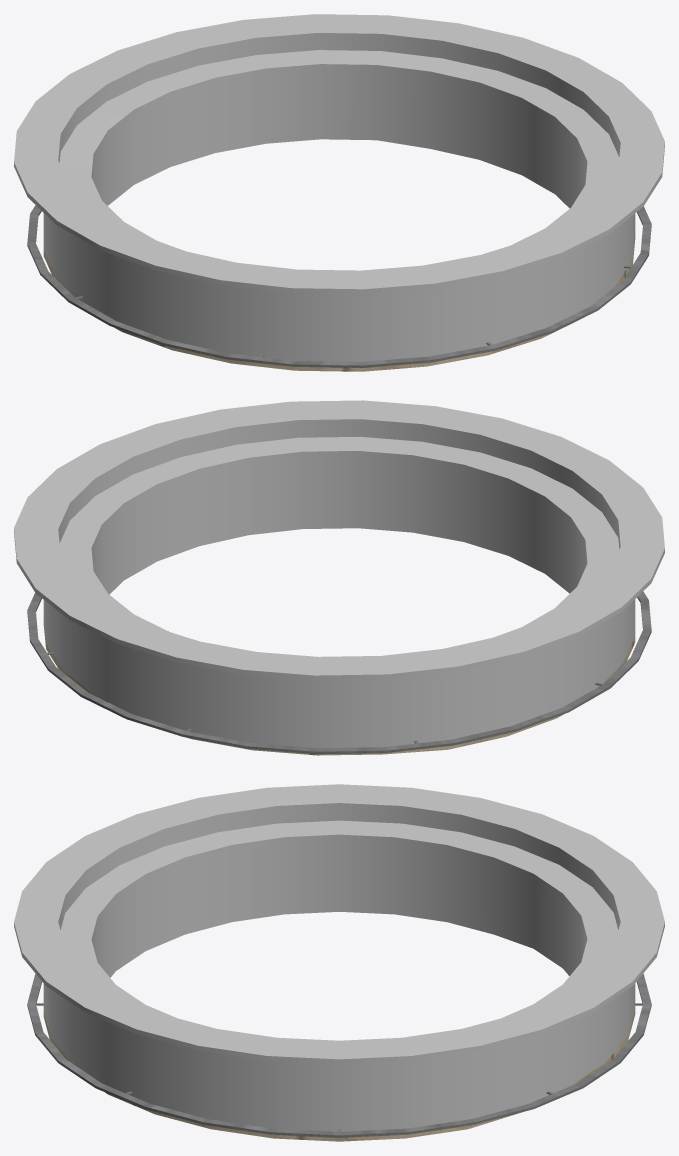
The model's file is SM_LobbyandHotel_Prop_Bar.FBX.
The picture shows the model from 3 angles, top to bottom: view 1: azimuth 30°, elevation 25°; view 2: azimuth 150°, elevation 25°; view 3: azimuth 270°, elevation 25°; orthographic projection.
Parts seen in each view (by area): view 1: SM_LobbyandHotel_Prop_Bar; view 2: SM_LobbyandHotel_Prop_Bar; view 3: SM_LobbyandHotel_Prop_Bar.
Boxes of the visible parts, bbox=[...] form: SM_LobbyandHotel_Prop_Bar: bbox=[14, 14, 664, 371]; SM_LobbyandHotel_Prop_Bar: bbox=[14, 400, 664, 755]; SM_LobbyandHotel_Prop_Bar: bbox=[14, 784, 664, 1141].
Bounding box in the file's own units: 8.71 × 1.4 × 8.71.
